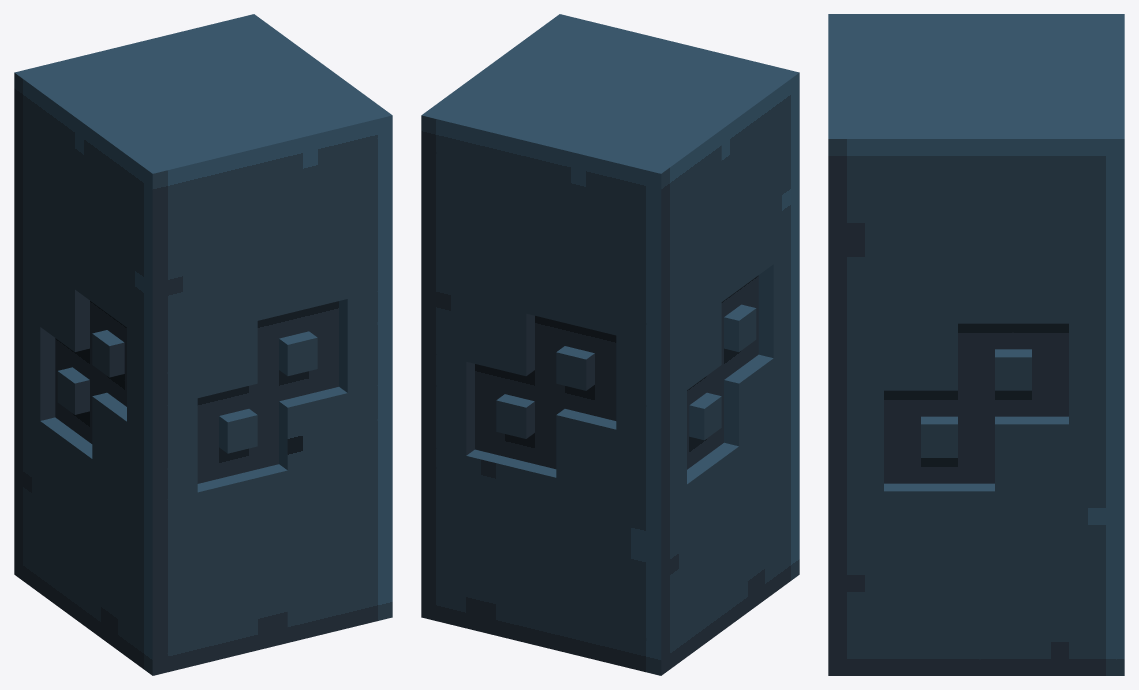
File: secret_nuzu_abao.fezao.glb
3 renders of one model, left to right at view 1: azimuth 30°, elevation 25°; view 2: azimuth 150°, elevation 25°; view 3: azimuth 270°, elevation 25°, orthographic. The views are drawn at different scales.
Visible parts, largest first — view 1: SECRET_NUZU_ABAO; view 2: SECRET_NUZU_ABAO; view 3: SECRET_NUZU_ABAO.
Boxes of the visible parts, box(x1,y1,x2,y2) form: SECRET_NUZU_ABAO: box(14, 14, 392, 675); SECRET_NUZU_ABAO: box(421, 14, 799, 675); SECRET_NUZU_ABAO: box(828, 14, 1124, 675).
Bounding box in the file's own units: 1 × 2 × 1.
1 material, 1 textured.
